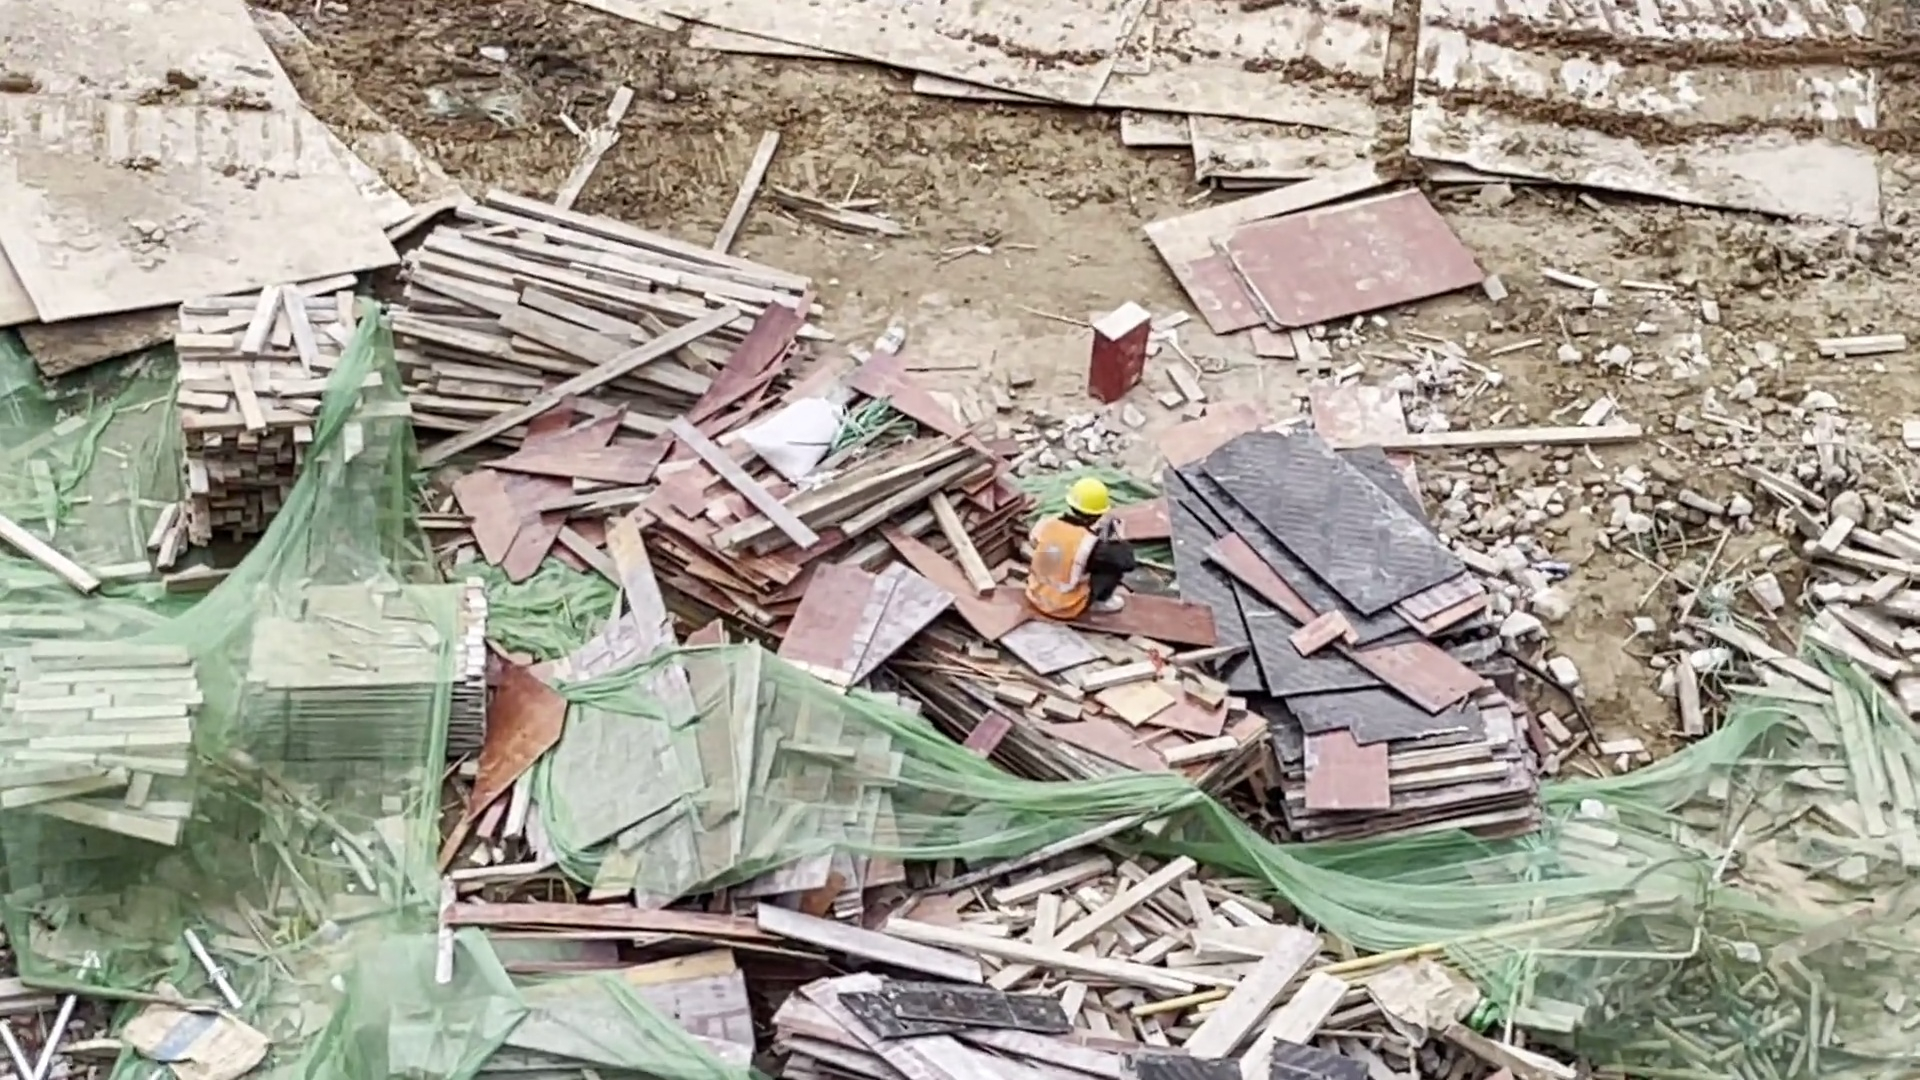board: (1207, 458, 1481, 847), (247, 584, 491, 773)
helmet: (1069, 476, 1109, 519)
person: (1024, 475, 1136, 623)
vest: (1021, 516, 1088, 615)
wood: (175, 308, 408, 548), (4, 648, 192, 846)
